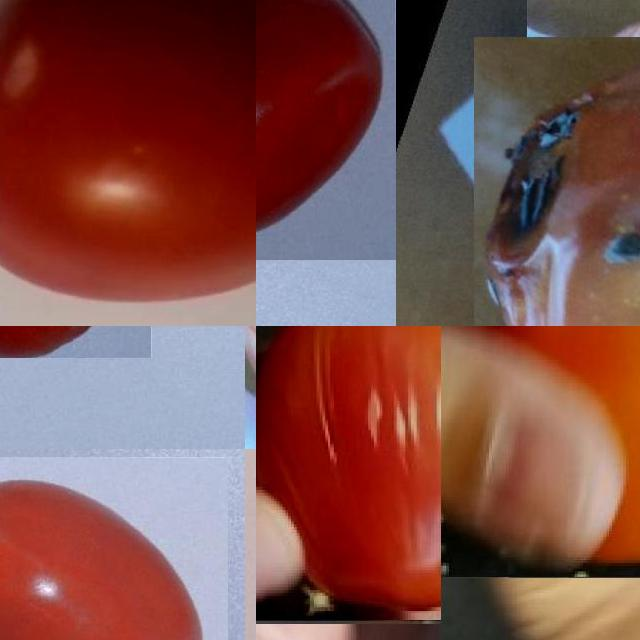0: (441, 326, 640, 577)
1: (256, 326, 441, 621)
Fresh Tomato: (0, 0, 256, 326), (0, 456, 227, 640), (256, 0, 396, 260)
Rotten Tomato: (500, 9, 640, 326)
